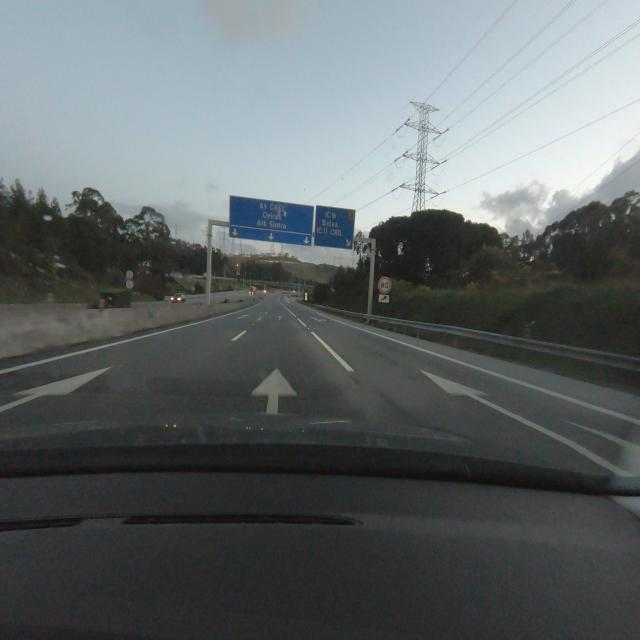car: (170, 292, 187, 303), (248, 287, 256, 295)
